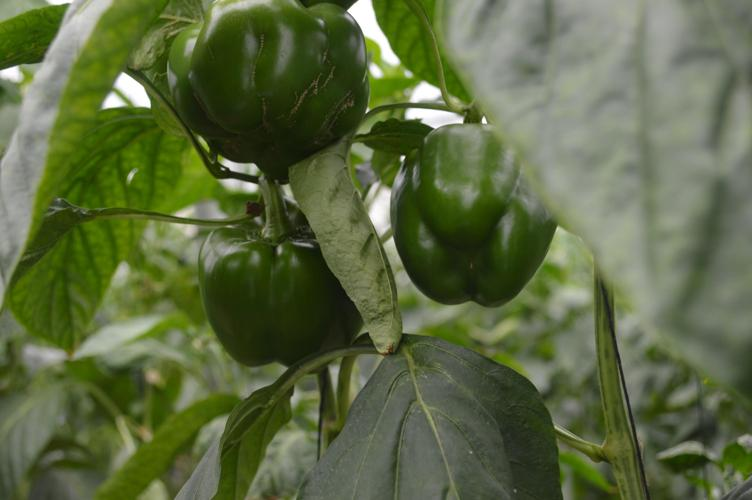BellPepper: (163, 4, 370, 176), (377, 123, 546, 302), (184, 214, 364, 365)
